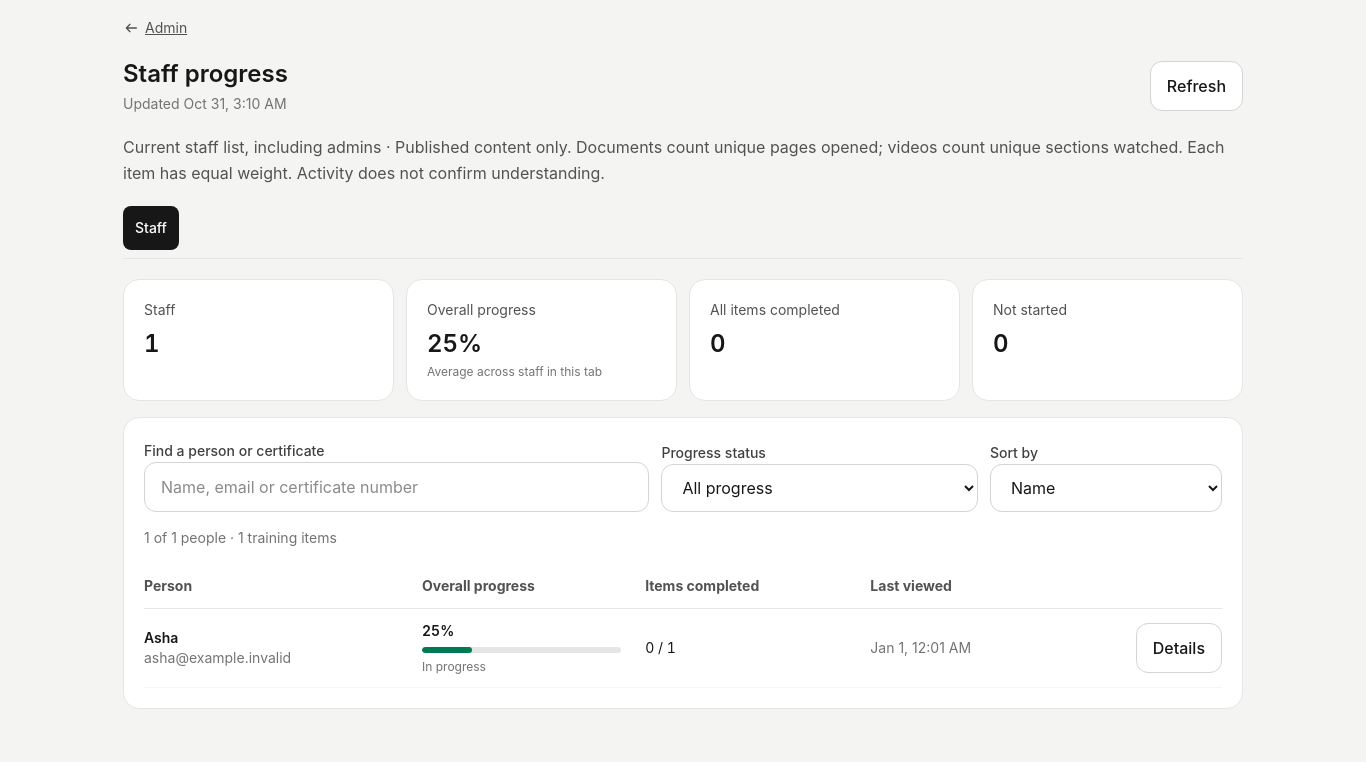
saved name history is lazy, updates the displayed and printed certificate, and pages with retry
Click the button with aria-label "View progress for Asha" at (1179, 648), box [1136,623,1222,673]
(page scrolled)
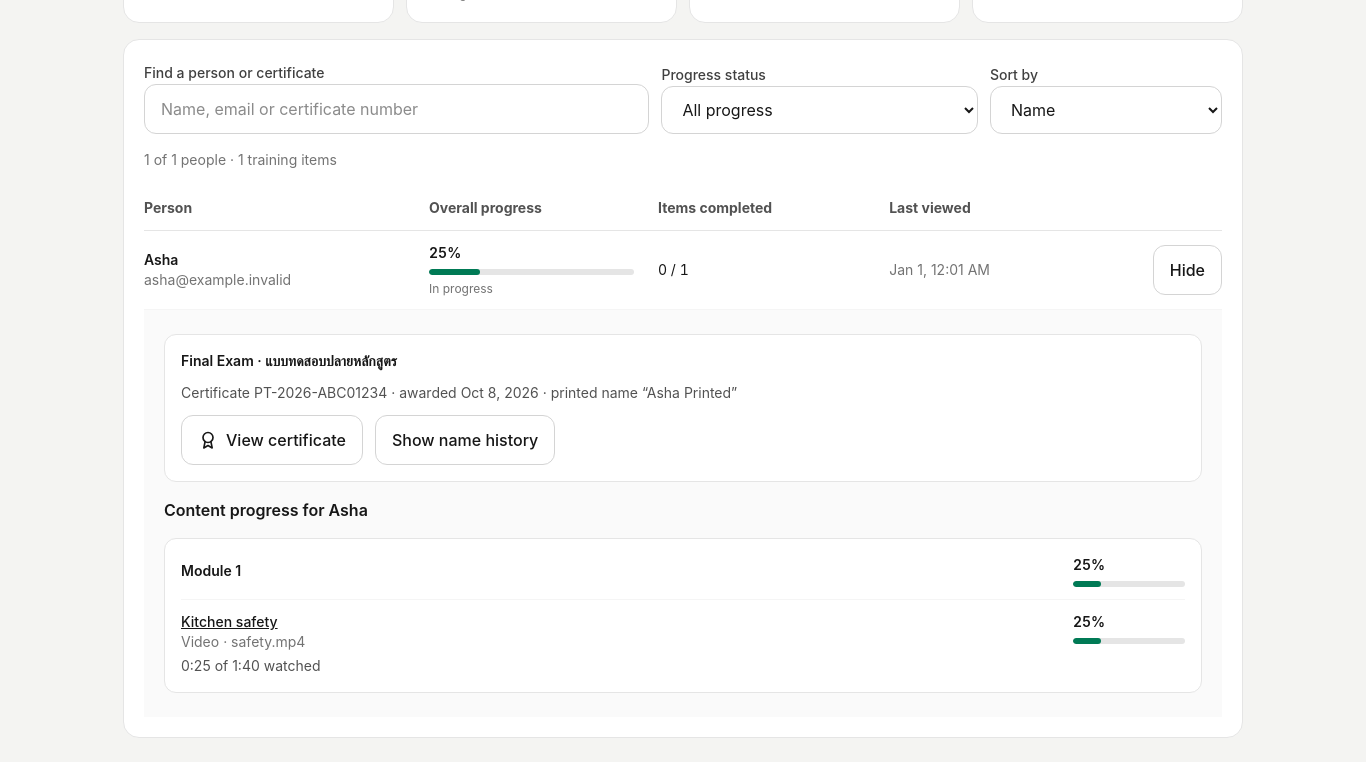
Click the button "Show name history" at (465, 440), box [375,415,555,465]
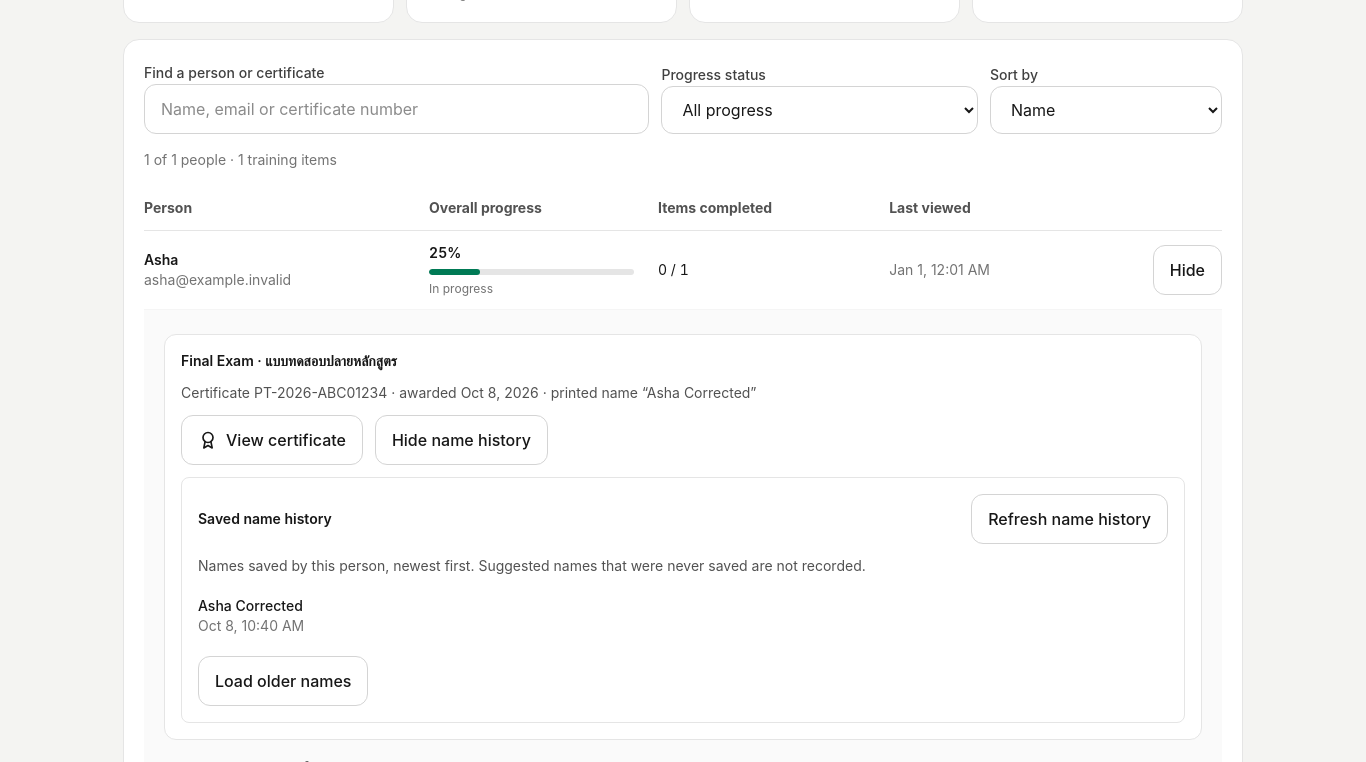
expect the heading "Saved name history" is shown: met, box [198,509,332,529]
expect the text "Asha Corrected" is shown: met, box [198,597,303,614]
Click the button "View certificate" at (272, 440), box [181,415,363,465]
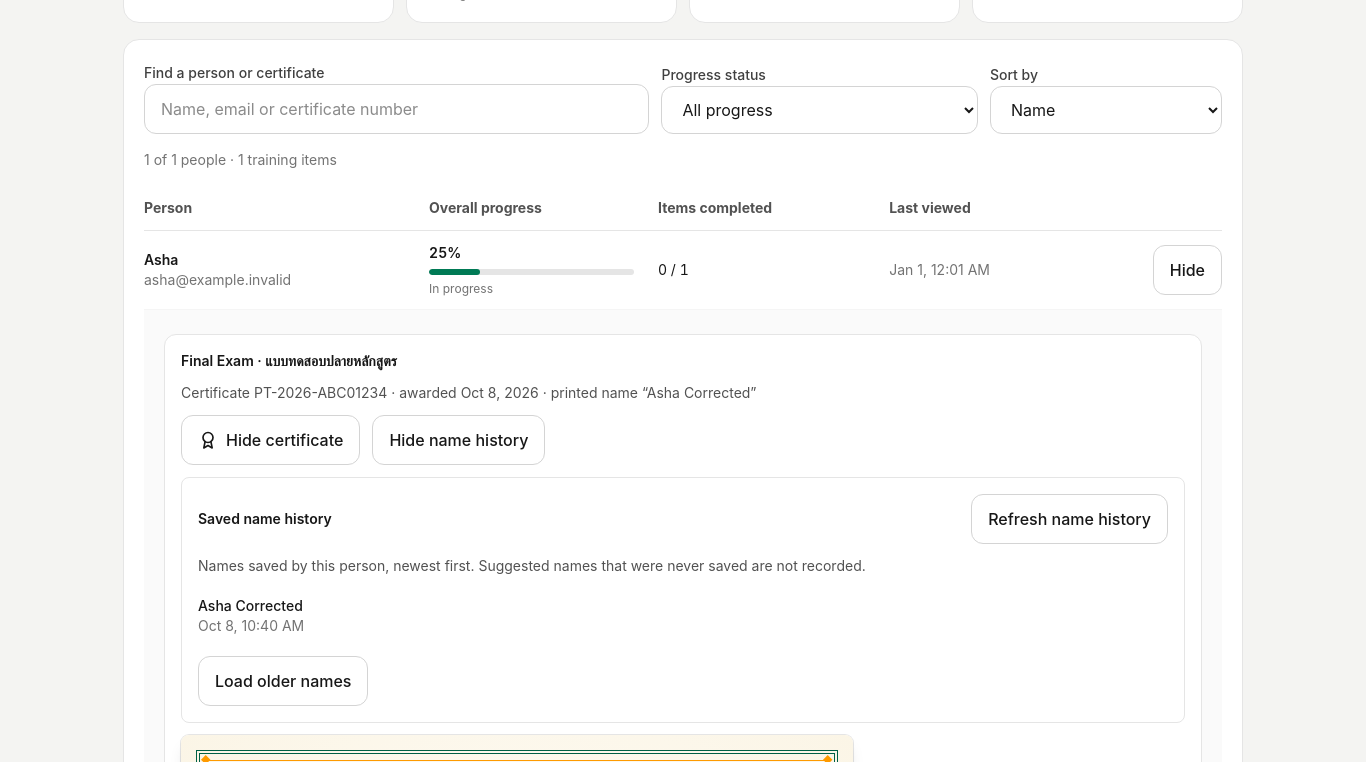
expect the text "Asha Printed" is not shown: met
Click the button "Load older names" at (283, 681), box [198,656,368,706]
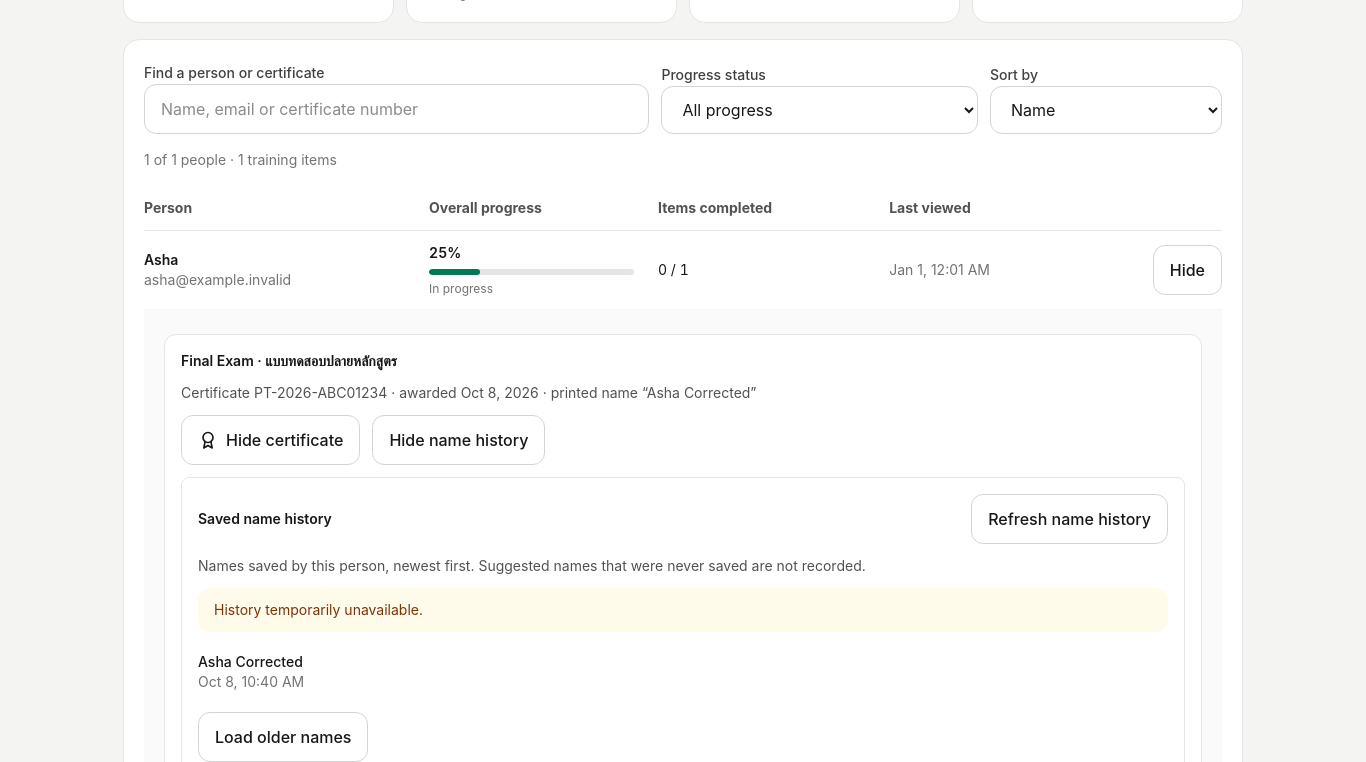
expect the text "Asha Corrected" is shown: met, box [198,653,303,670]
expect the text "History temporarily unavailable." is shown: met, box [198,588,1168,632]
Click the button "Load older names" at (283, 737), box [198,712,368,761]
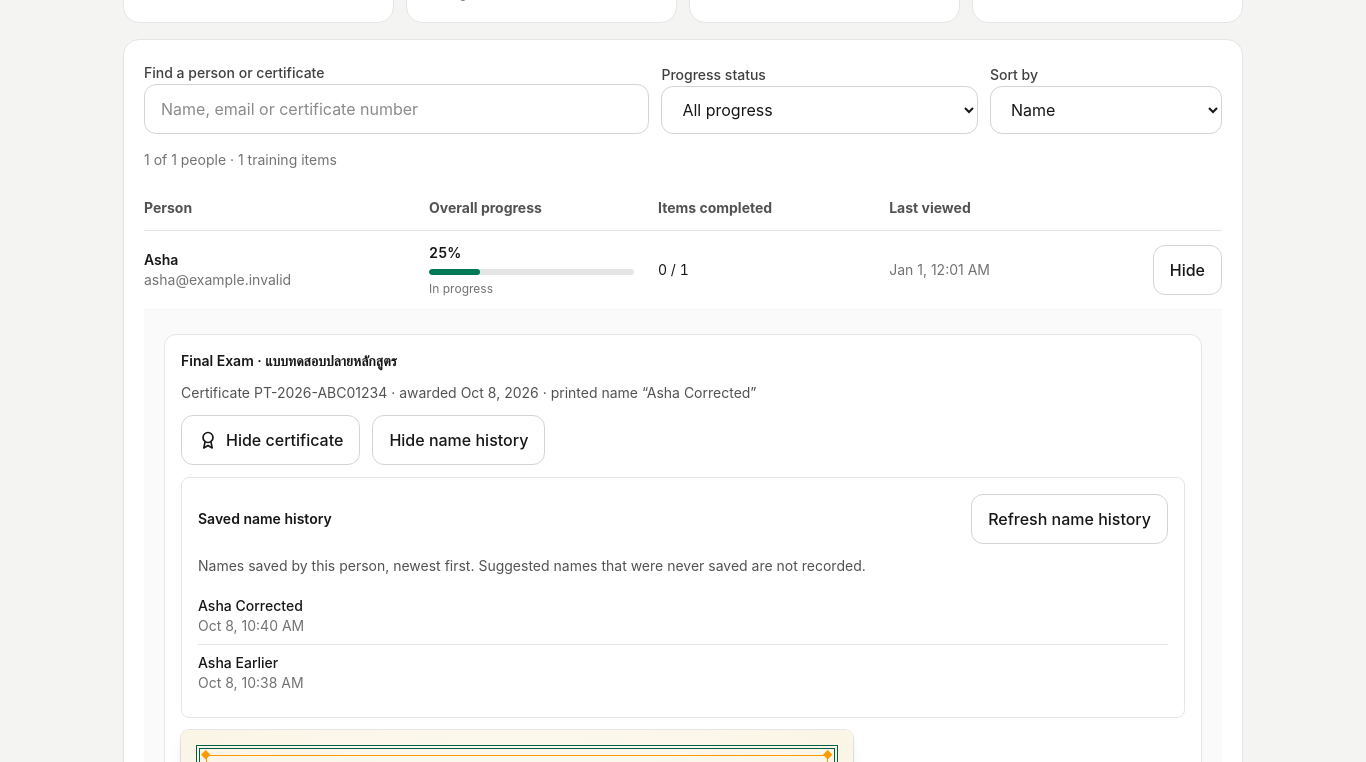
expect the text "Asha Earlier" is shown: met, box [198,654,278,671]
expect the button "Load older names" is gone: met
